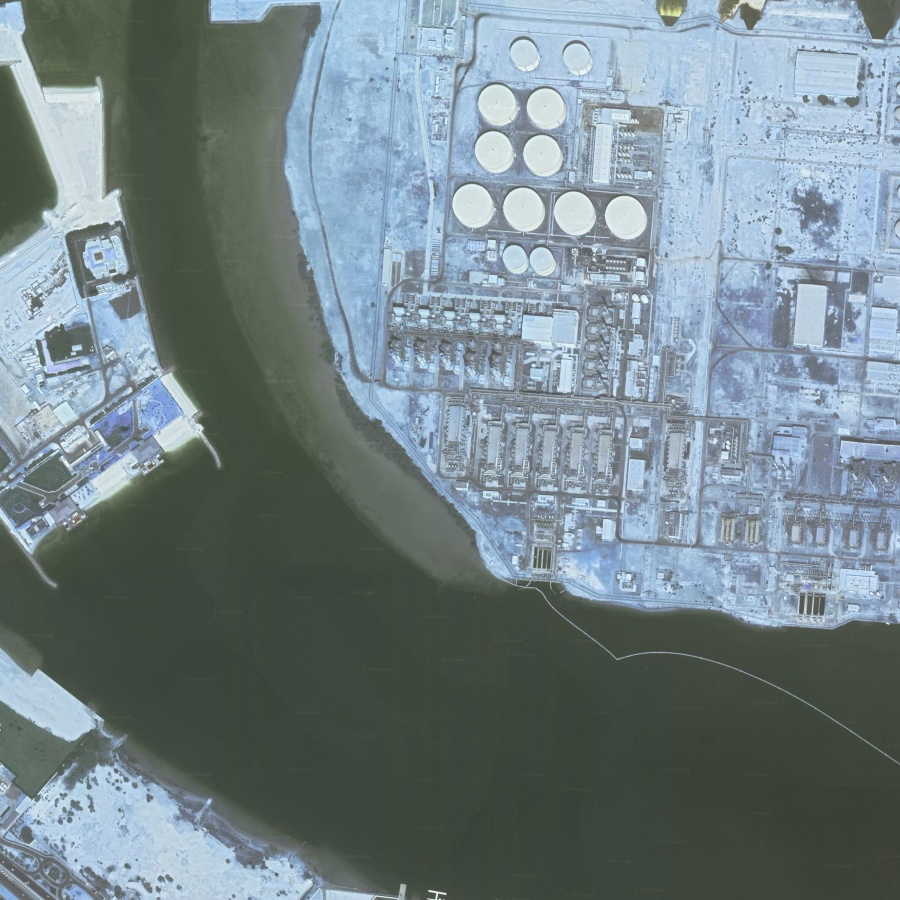PowerPlant: (380, 24, 680, 413)
